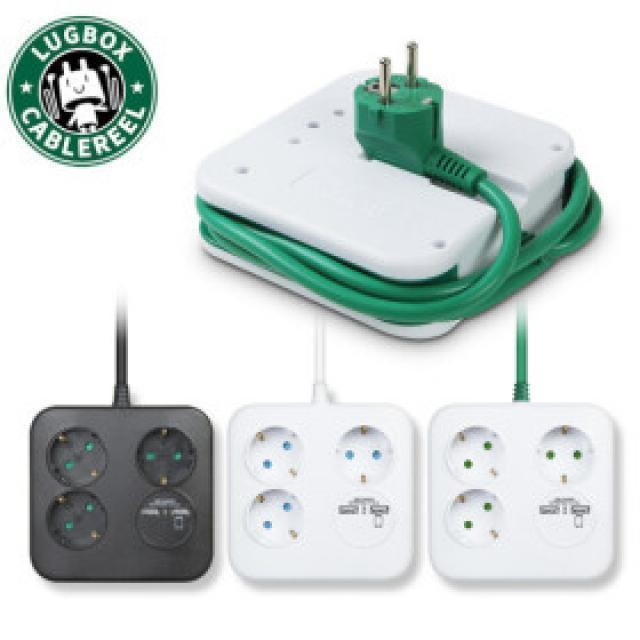typeb: (423, 390, 626, 598)
